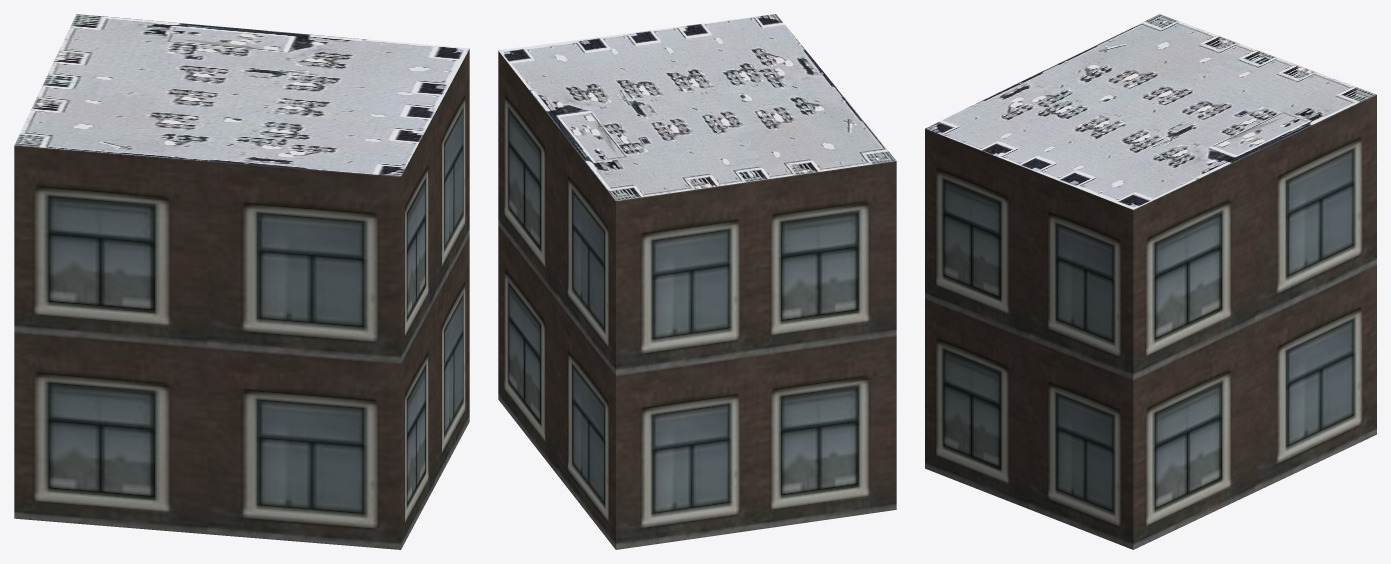
Rendered from ResTex__444.fbx.
The picture shows the model from 3 angles, left to right: view 1: azimuth 30°, elevation 25°; view 2: azimuth 150°, elevation 25°; view 3: azimuth 270°, elevation 25°; orthographic projection. The views are drawn at different scales.
Visible parts, largest first — view 1: CityEngineMaterial_16_m, CityEngineMaterial_15_m; view 2: CityEngineMaterial_16_m, CityEngineMaterial_15_m; view 3: CityEngineMaterial_16_m, CityEngineMaterial_15_m.
Boxes of the visible parts, x1=… form: CityEngineMaterial_16_m: x1=14, y1=49, x2=469, y2=549; CityEngineMaterial_15_m: x1=14, y1=14, x2=469, y2=176; CityEngineMaterial_16_m: x1=498, y1=51, x2=896, y2=549; CityEngineMaterial_15_m: x1=498, y1=14, x2=896, y2=200; CityEngineMaterial_16_m: x1=925, y1=94, x2=1376, y2=549; CityEngineMaterial_15_m: x1=925, y1=14, x2=1376, y2=209.
Bounding box in the file's own units: 7.42 × 6 × 7.23.
2 materials, 2 textured.
